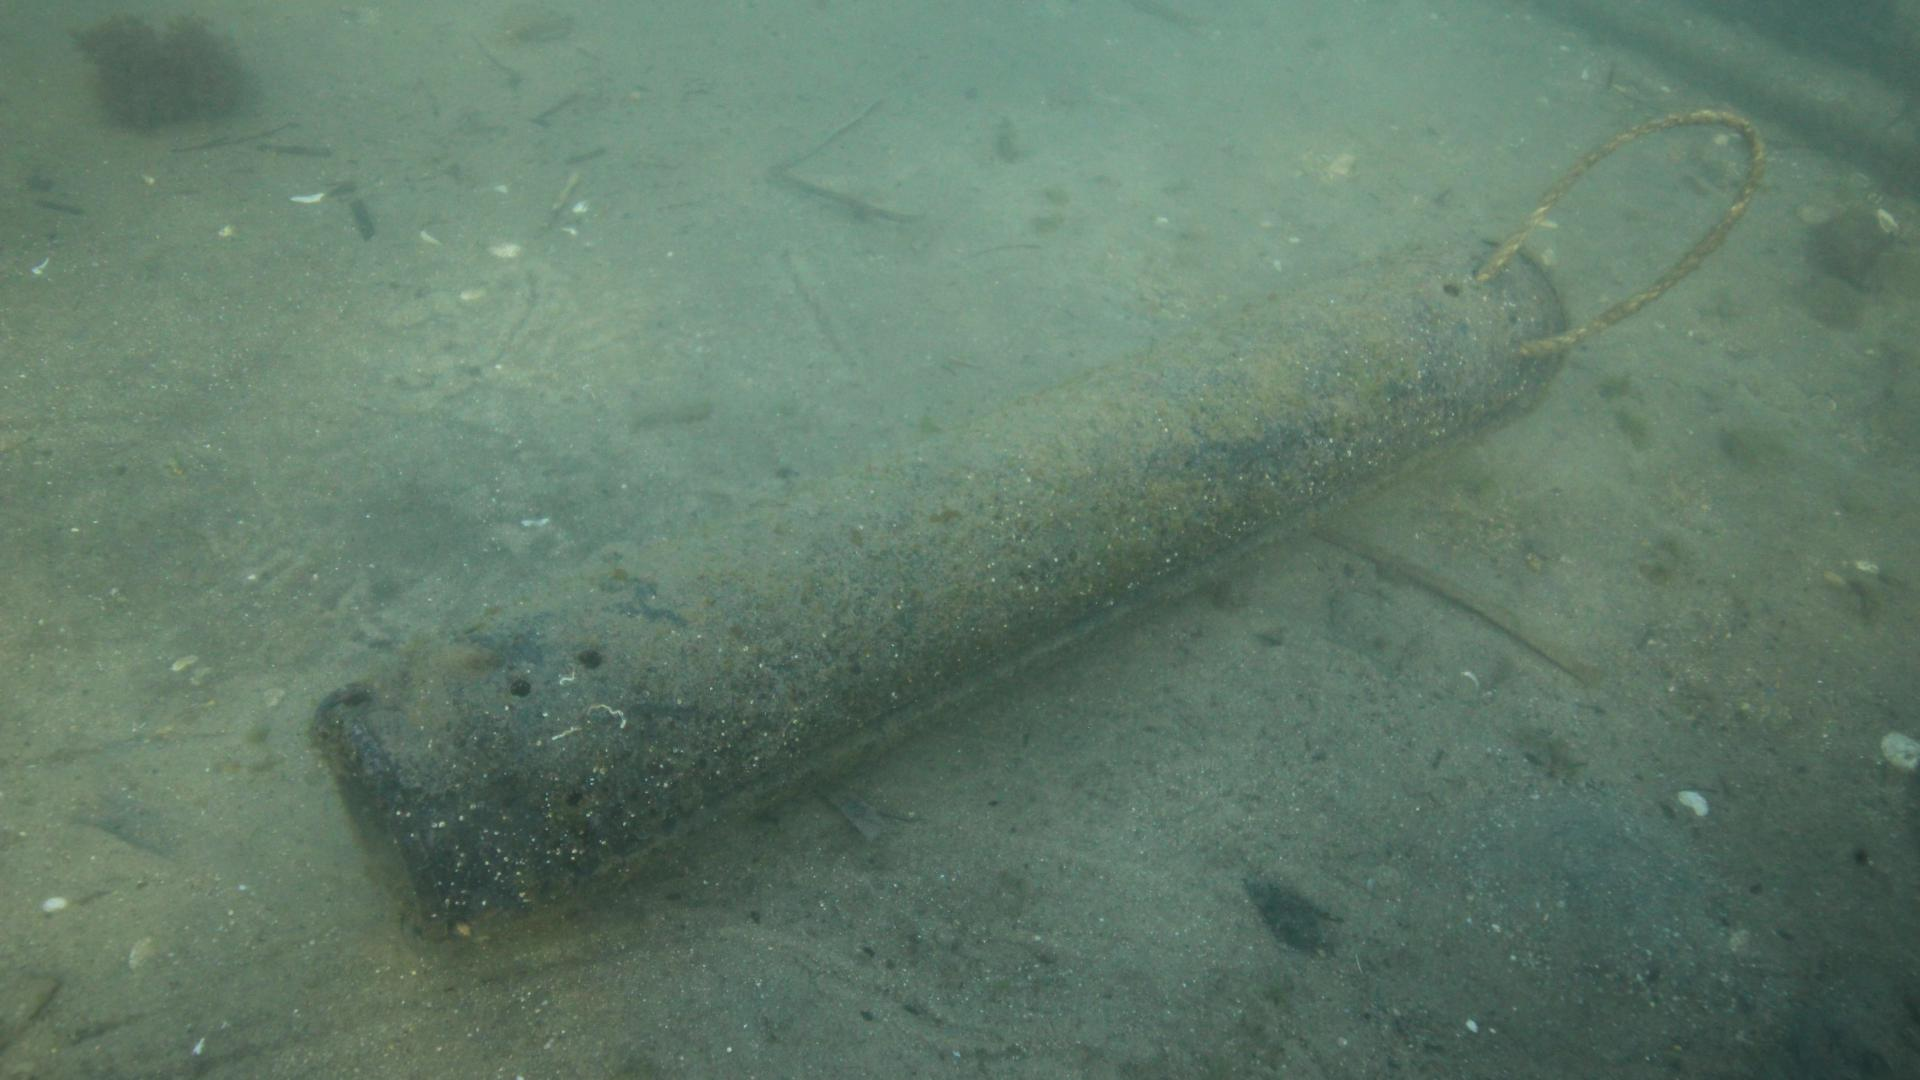eel fish trap: (309, 236, 1569, 943)
rope: (1474, 105, 1764, 352)
